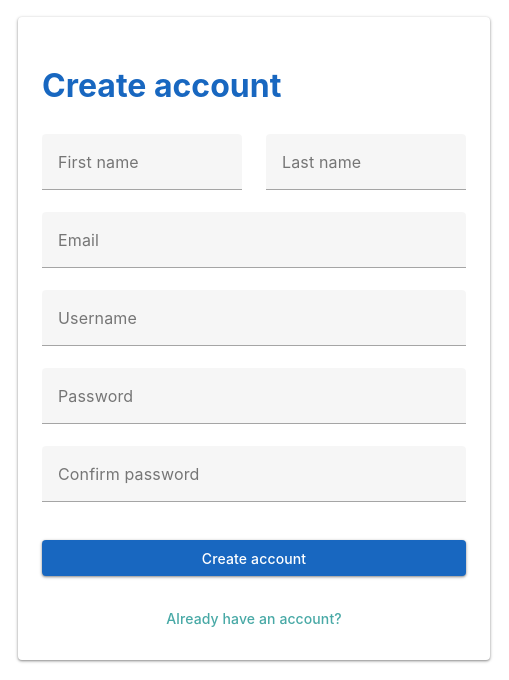
Feature 1 — Register view › US-1.1 — Register as a student › User submits registration with missing email
The width and height of the screenshot is (509, 680).
Type "Jane" into the field labelled "First name" at (142, 162), box [42, 134, 242, 190]
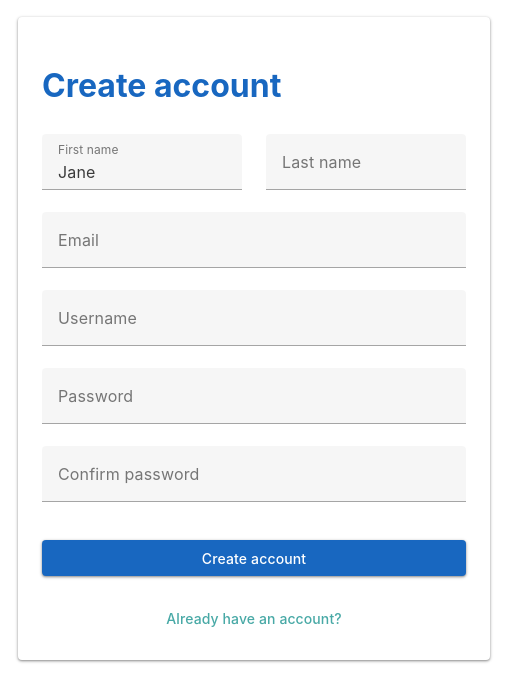
Type "Doe" into the field labelled "Last name" at (366, 162), box [266, 134, 466, 190]
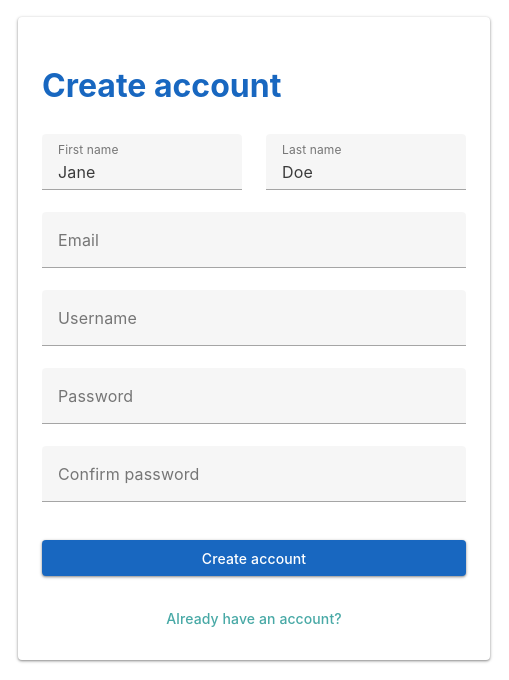
Type "jdoe" into the field labelled "Username" at (254, 318), box [42, 290, 466, 346]
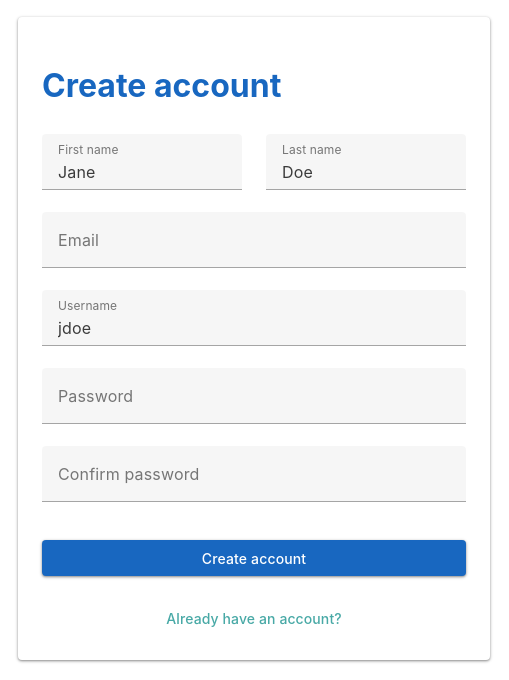
Type "secret123" into the password field labelled "Password" at (254, 396), box [42, 368, 466, 424]
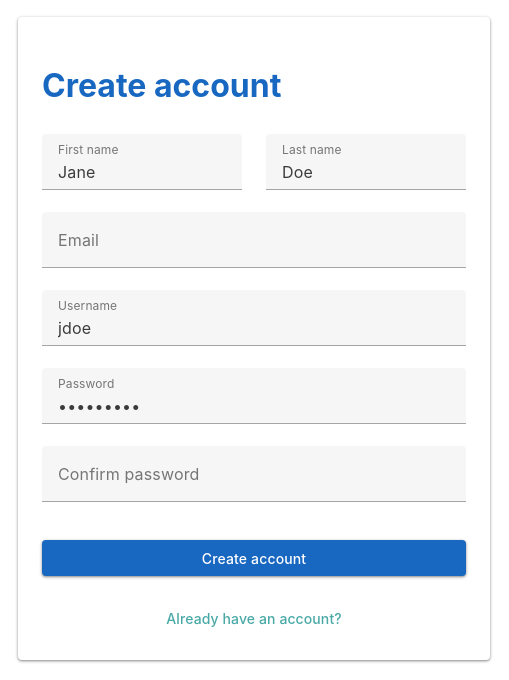
Type "secret123" into the password field labelled "Confirm password" at (254, 474), box [42, 446, 466, 502]
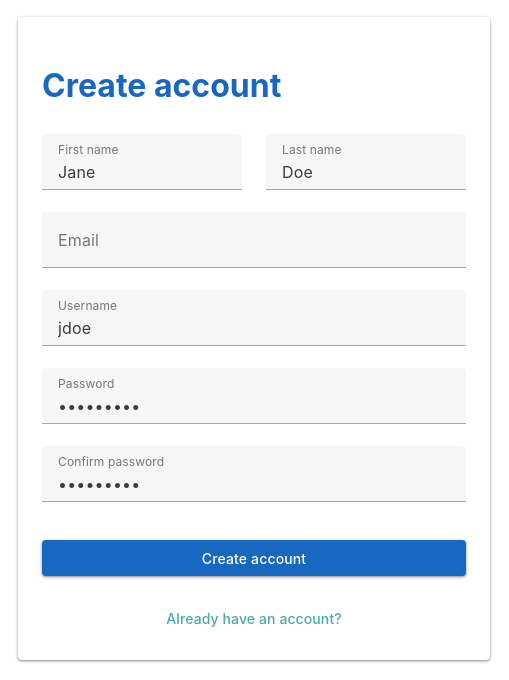
Submit the form, box [42, 134, 466, 576]
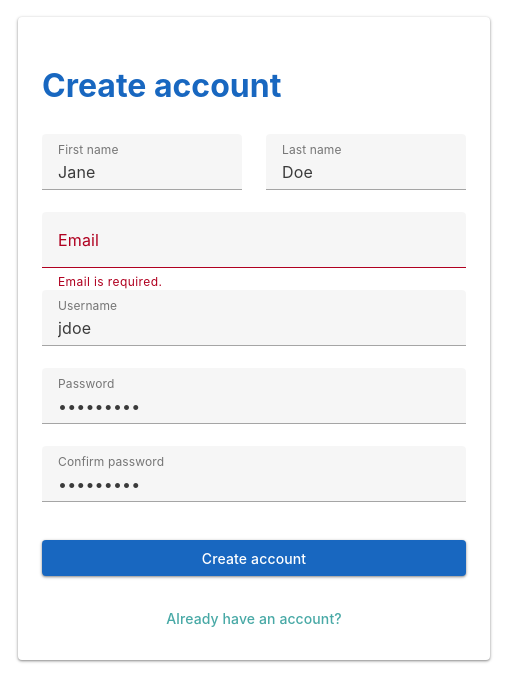
Check: the text "Email is required." is shown, box [58, 274, 162, 289]
